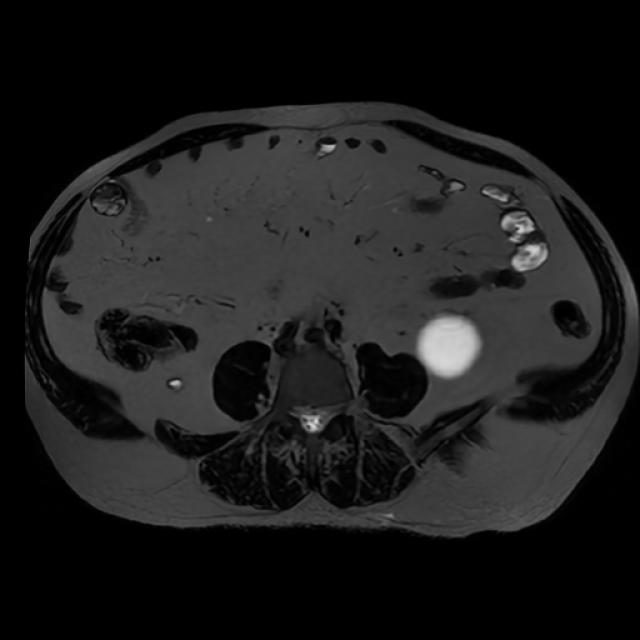sol: (415, 313, 483, 379)
